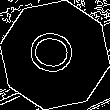O_E: (26, 29, 84, 81)
